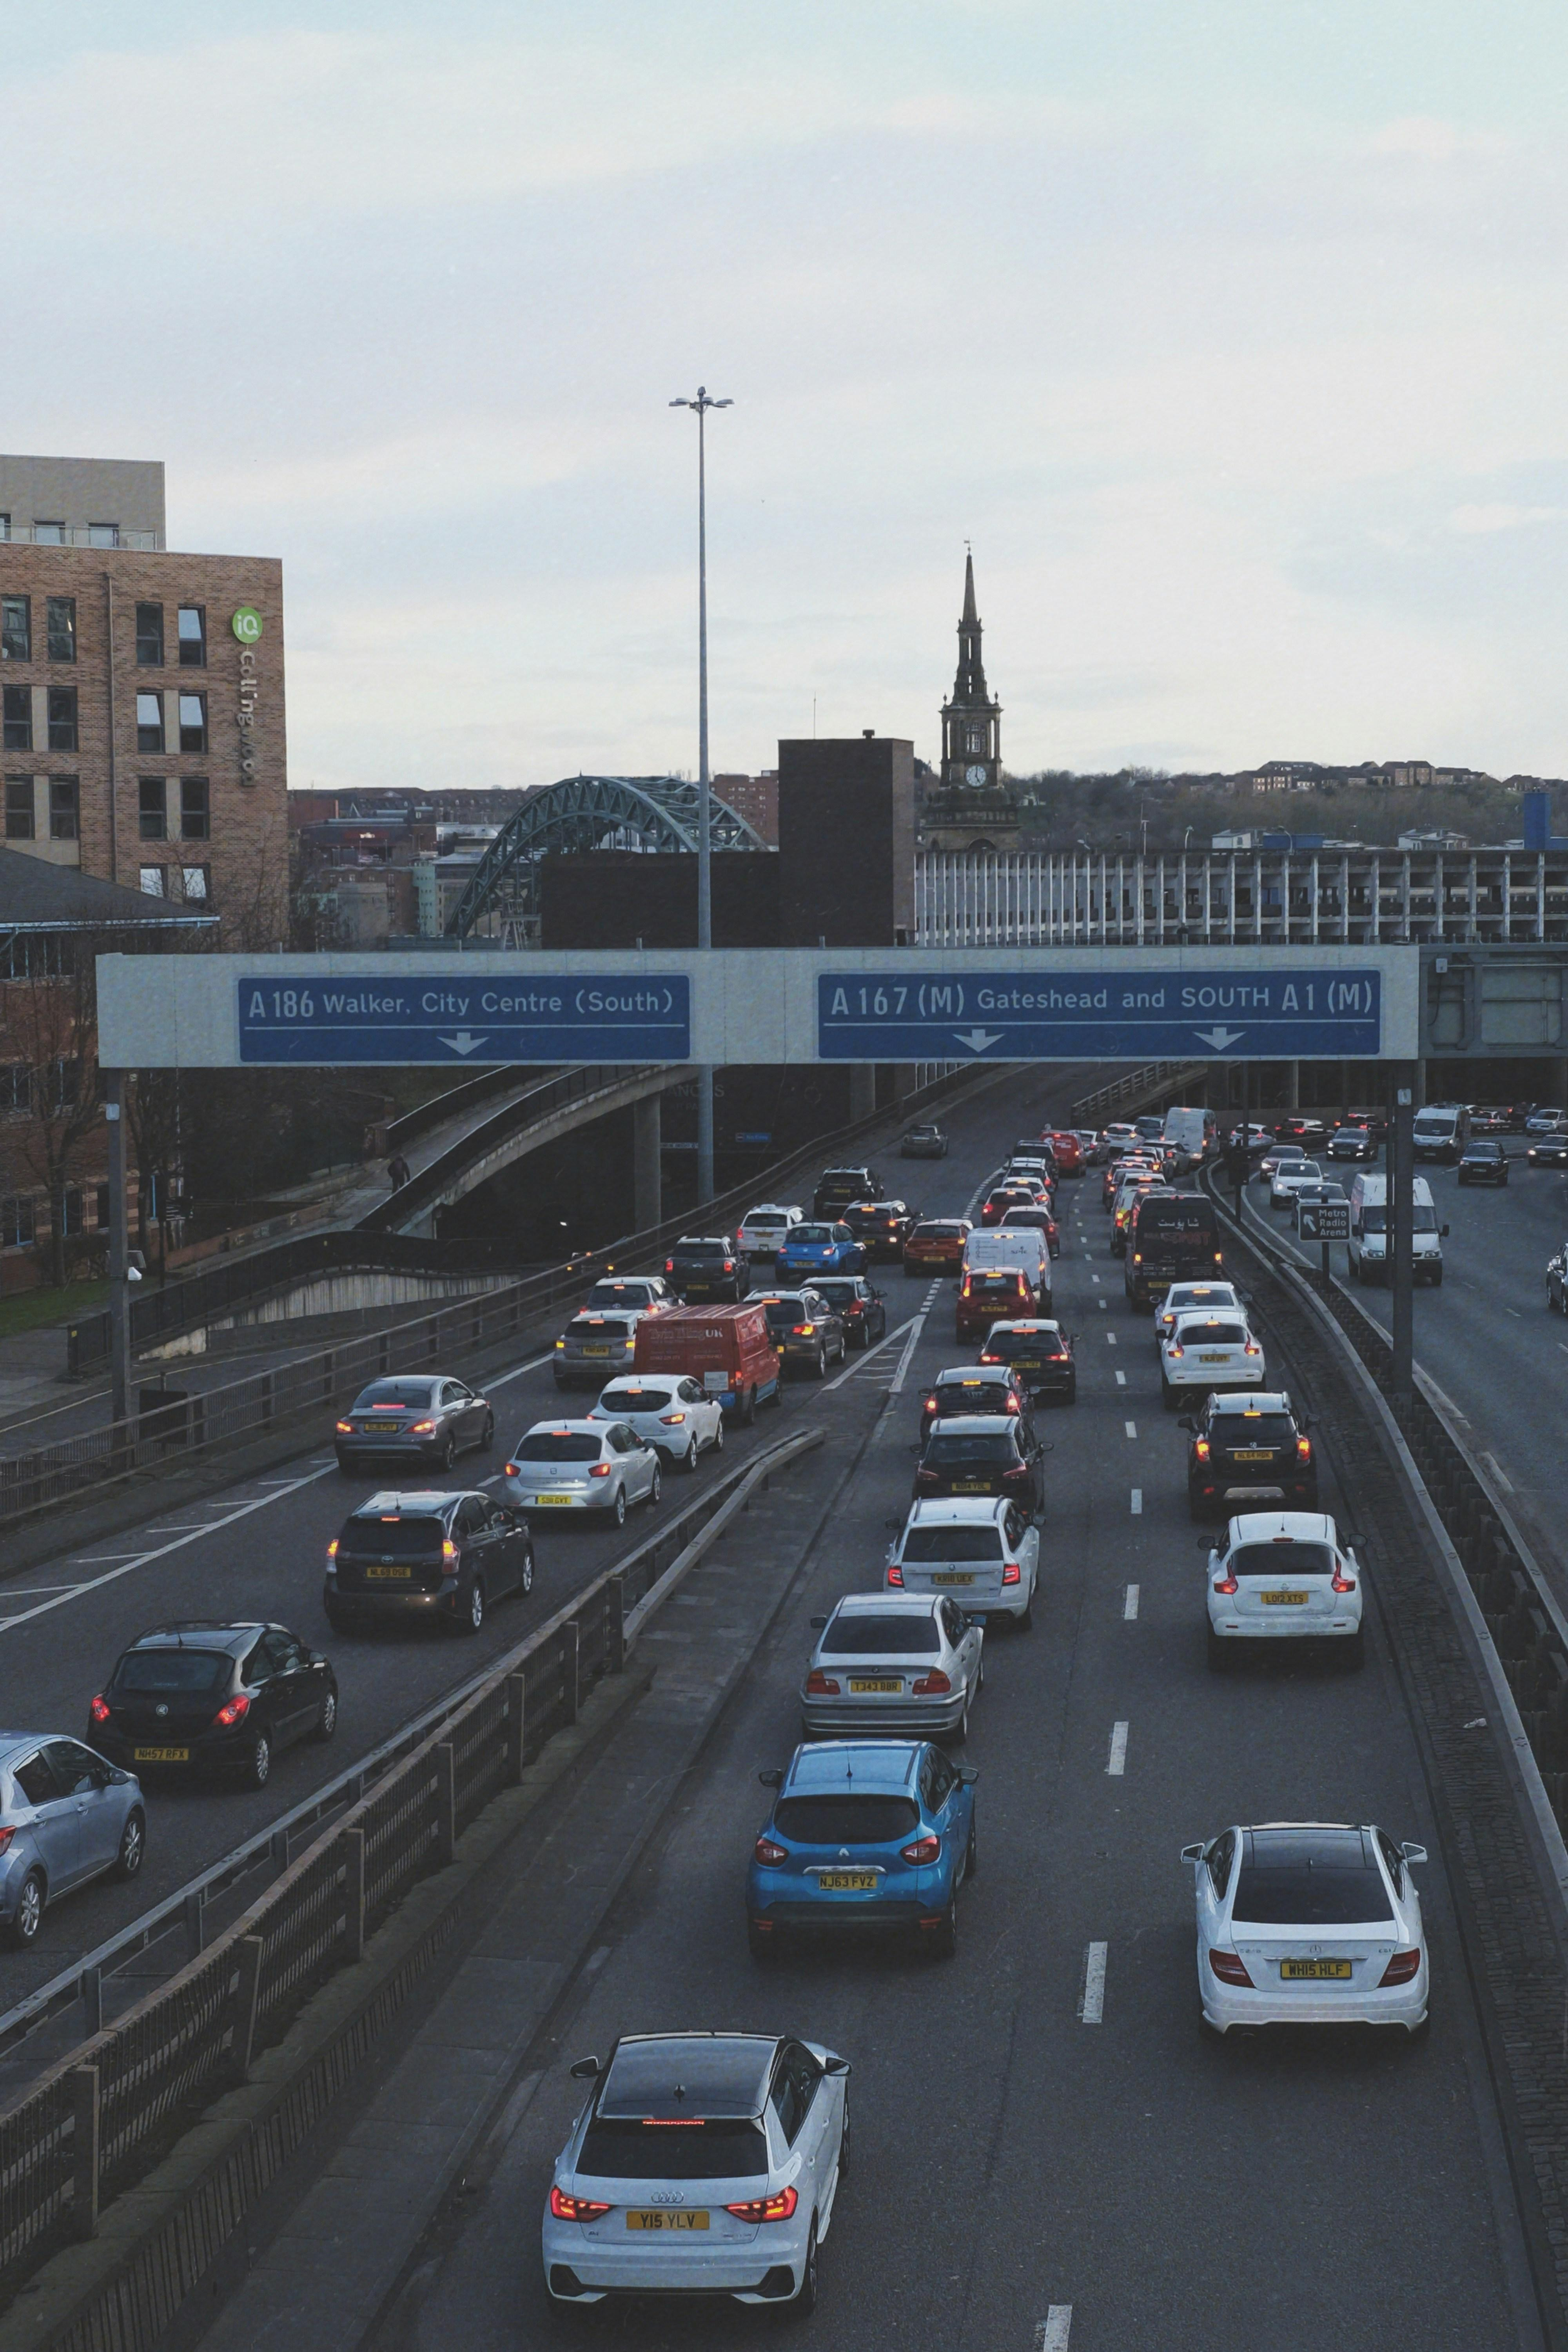Car: (541, 2032, 849, 2315), (1181, 1822, 1428, 2033), (746, 1741, 978, 1958), (89, 1621, 338, 1787), (0, 1732, 145, 1948), (324, 1491, 534, 1633), (801, 1592, 984, 1743), (1206, 1510, 1365, 1669), (886, 1496, 1038, 1629), (634, 1297, 779, 1426), (1181, 1391, 1318, 1521), (506, 1419, 660, 1524), (338, 1374, 494, 1472), (588, 1374, 724, 1472), (914, 1414, 1043, 1517), (1123, 1186, 1221, 1311), (1162, 1311, 1265, 1410), (759, 1286, 849, 1379), (980, 1316, 1074, 1400), (922, 1361, 1031, 1431), (955, 1265, 1048, 1340), (553, 1311, 639, 1389), (1153, 1281, 1244, 1351), (775, 1221, 870, 1283), (663, 1235, 749, 1302), (812, 1274, 887, 1349), (840, 1199, 919, 1262), (1110, 1176, 1169, 1258), (1349, 1172, 1390, 1283), (812, 1164, 886, 1220), (903, 1218, 973, 1276), (735, 1204, 803, 1262), (1101, 1151, 1162, 1213), (579, 1276, 672, 1314), (1412, 1102, 1468, 1164), (998, 1204, 1061, 1258), (1290, 1179, 1347, 1232), (980, 1176, 1038, 1227), (1269, 1158, 1323, 1209), (1458, 1134, 1510, 1185), (1274, 1111, 1328, 1153), (1003, 1150, 1059, 1188), (1255, 1144, 1306, 1185), (1335, 1106, 1388, 1144), (1323, 1127, 1379, 1162), (900, 1122, 950, 1158), (1526, 1123, 1568, 1167), (1048, 1129, 1083, 1176), (1225, 1122, 1274, 1155), (1097, 1122, 1137, 1162), (1545, 1244, 1568, 1314), (1013, 1129, 1055, 1165), (1524, 1106, 1568, 1136), (1470, 1106, 1514, 1136), (1132, 1113, 1164, 1146), (1073, 1130, 1102, 1165)
